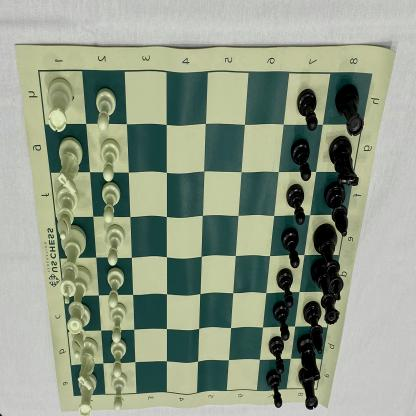black-bishop: (322, 183, 348, 238), (303, 302, 322, 355)
black-king: (314, 225, 345, 301)
black-knight: (328, 135, 360, 188), (298, 336, 320, 386)
black-pawn: (296, 88, 318, 135), (290, 139, 312, 182), (286, 184, 306, 226), (281, 228, 300, 270), (276, 267, 294, 308), (266, 369, 283, 410), (268, 336, 285, 375), (273, 302, 290, 341)
black-queen: (312, 260, 339, 326)
black-rook: (335, 83, 364, 137), (298, 365, 318, 411)
white-bishop: (55, 186, 79, 241), (71, 304, 91, 360)
white-king: (59, 224, 86, 304)
white-knight: (56, 136, 83, 194), (76, 337, 99, 390)
white-pawn: (94, 87, 117, 131), (100, 138, 121, 181), (101, 181, 120, 224), (107, 226, 125, 267), (106, 268, 124, 308), (109, 303, 126, 343), (111, 372, 128, 411), (110, 339, 127, 377)
white-queen: (66, 265, 91, 334)
white-rook: (46, 78, 74, 134), (78, 373, 97, 416)
